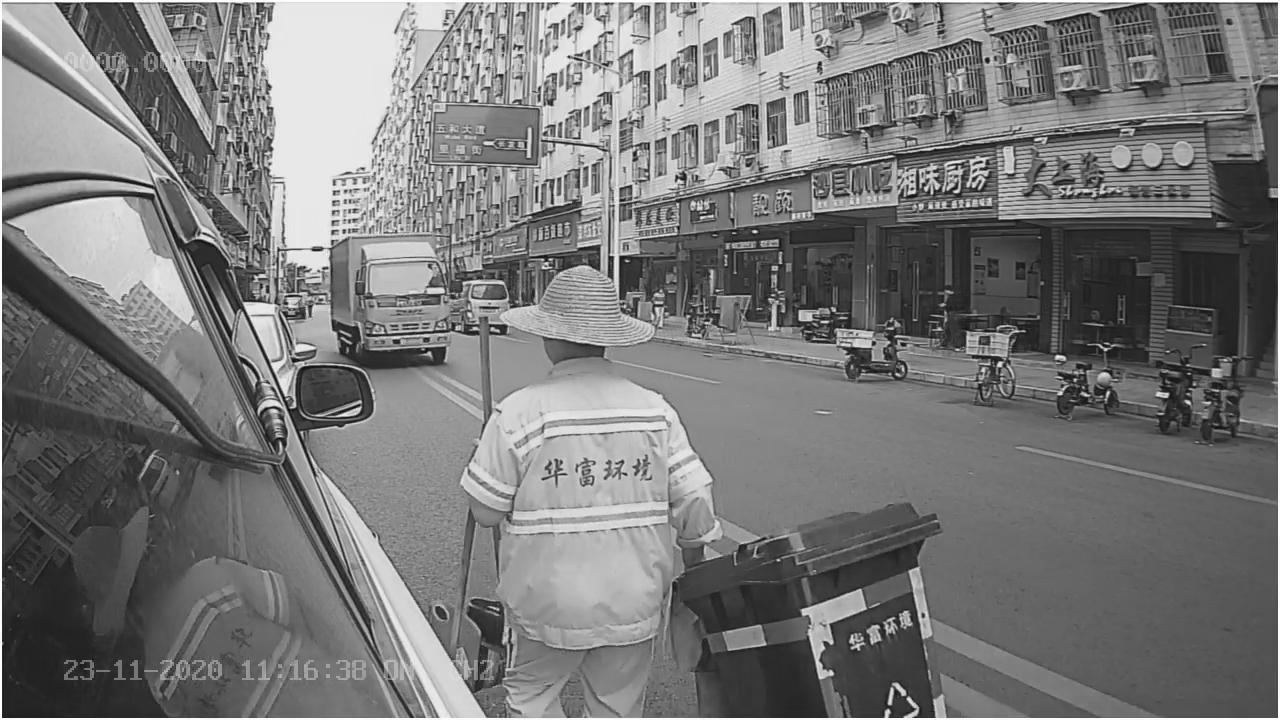person: (496, 262, 723, 562)
